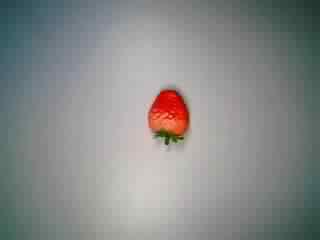strawberry: (128, 88, 202, 152)
